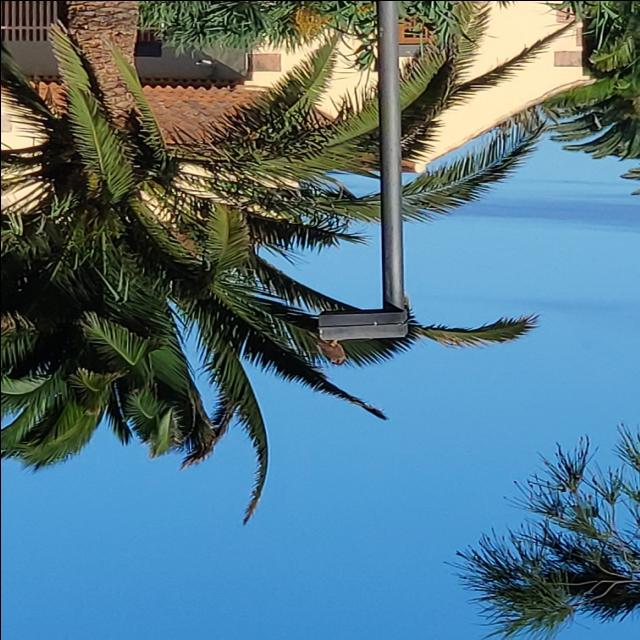Palm-Trees: (0, 0, 317, 525)
